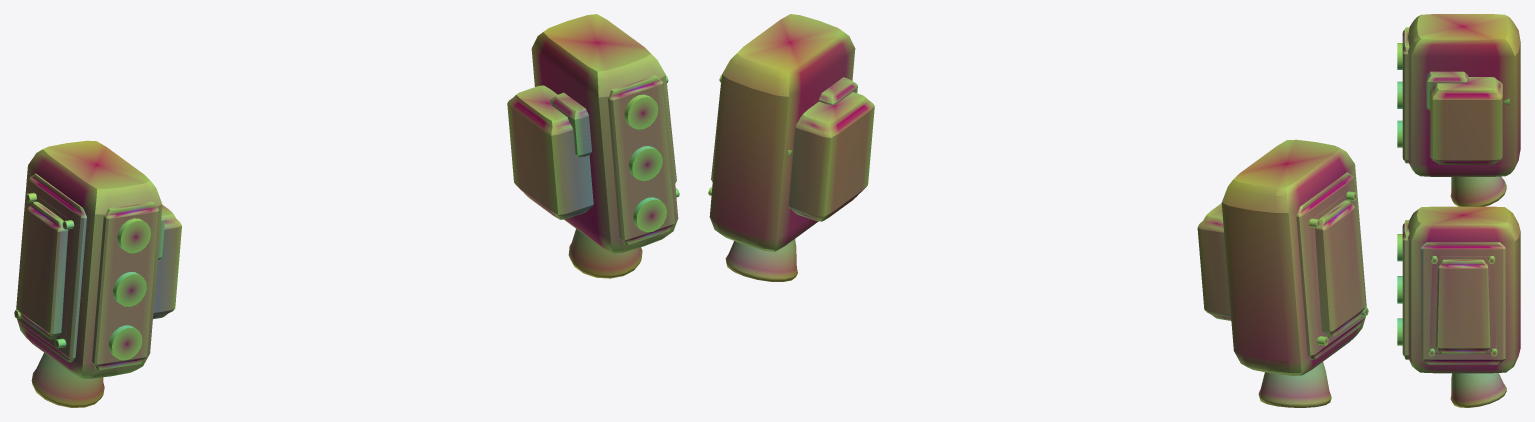
File: llm_gen_leg_thrusters_115_0658d0.glb
3 renders of one model, left to right at view 1: azimuth 30°, elevation 25°; view 2: azimuth 150°, elevation 25°; view 3: azimuth 270°, elevation 25°, orthographic. The views are drawn at different scales.
Visible parts, largest first — view 1: leg_missile_hull_0_crimson_gloss_r, leg_missile_hull_0_crimson_gloss_l, adapter_calf_clamp_r, leg_pod_armor_cover_6_era_block_l, adapter_sub_missile_bezel_dark_1_adapter_dark_l, adapter_sub_missile_bezel_dark_1_adapter_dark_r, adapter_sub_side_frame_dark_5_adapter_dark_l, leg_ankle_bell_7_vernier_bell_vernier_l, leg_ankle_bell_7_vernier_bell_vernier_r, adapter_calf_clamp_l, adapter_leg_knee_mount_dark_8_adapter_dark_r, leg_cell_top_2_adapter_dark_l (+5 smaller); view 2: leg_missile_hull_0_crimson_gloss_r, leg_missile_hull_0_crimson_gloss_l, adapter_calf_clamp_r, leg_pod_armor_cover_6_era_block_l, adapter_sub_side_frame_dark_5_adapter_dark_l, adapter_calf_clamp_l, leg_ankle_bell_7_vernier_bell_vernier_l, leg_ankle_bell_7_vernier_bell_vernier_r, adapter_leg_knee_mount_dark_8_adapter_dark_r; view 3: leg_missile_hull_0_crimson_gloss_l, leg_missile_hull_0_crimson_gloss_r, leg_pod_armor_cover_6_era_block_r, adapter_calf_clamp_l, adapter_sub_side_frame_dark_5_adapter_dark_r, leg_ankle_bell_7_vernier_bell_vernier_r, leg_ankle_bell_7_vernier_bell_vernier_l, adapter_sub_missile_bezel_dark_1_adapter_dark_r, adapter_sub_missile_bezel_dark_1_adapter_dark_l, adapter_leg_knee_mount_dark_8_adapter_dark_l, leg_cell_top_2_adapter_dark_r, leg_cell_mid_3_adapter_dark_r (+4 smaller).
Boxes of the visible parts, x1,y1,x2,y2 form: leg_missile_hull_0_crimson_gloss_r: (531, 14, 678, 253); leg_missile_hull_0_crimson_gloss_l: (16, 140, 162, 378); adapter_calf_clamp_r: (507, 85, 593, 219); leg_pod_armor_cover_6_era_block_l: (14, 192, 74, 348); adapter_sub_missile_bezel_dark_1_adapter_dark_l: (92, 201, 159, 369); adapter_sub_missile_bezel_dark_1_adapter_dark_r: (607, 75, 675, 244); adapter_sub_side_frame_dark_5_adapter_dark_l: (17, 173, 86, 362); leg_ankle_bell_7_vernier_bell_vernier_l: (31, 352, 104, 407); leg_ankle_bell_7_vernier_bell_vernier_r: (568, 229, 642, 278); adapter_calf_clamp_l: (153, 205, 181, 318); adapter_leg_knee_mount_dark_8_adapter_dark_r: (549, 92, 591, 157); leg_cell_top_2_adapter_dark_l: (117, 218, 151, 253); leg_missile_hull_0_crimson_gloss_r: (709, 14, 855, 251); leg_missile_hull_0_crimson_gloss_l: (1221, 139, 1366, 375); adapter_calf_clamp_r: (788, 92, 874, 221); leg_pod_armor_cover_6_era_block_l: (1309, 191, 1368, 345); adapter_sub_side_frame_dark_5_adapter_dark_l: (1296, 172, 1365, 359); adapter_calf_clamp_l: (1197, 203, 1231, 320); leg_ankle_bell_7_vernier_bell_vernier_l: (1258, 362, 1331, 407); leg_ankle_bell_7_vernier_bell_vernier_r: (725, 239, 797, 281); adapter_leg_knee_mount_dark_8_adapter_dark_r: (818, 77, 857, 105); leg_missile_hull_0_crimson_gloss_l: (1408, 14, 1520, 176); leg_missile_hull_0_crimson_gloss_r: (1408, 206, 1520, 373); leg_pod_armor_cover_6_era_block_r: (1428, 256, 1497, 356); adapter_calf_clamp_l: (1430, 77, 1502, 164); adapter_sub_side_frame_dark_5_adapter_dark_r: (1420, 242, 1505, 364); leg_ankle_bell_7_vernier_bell_vernier_r: (1450, 373, 1506, 407); leg_ankle_bell_7_vernier_bell_vernier_l: (1450, 176, 1506, 206); adapter_sub_missile_bezel_dark_1_adapter_dark_r: (1402, 220, 1409, 359); adapter_sub_missile_bezel_dark_1_adapter_dark_l: (1402, 27, 1409, 163); adapter_leg_knee_mount_dark_8_adapter_dark_l: (1426, 71, 1468, 110); leg_cell_top_2_adapter_dark_r: (1397, 234, 1402, 261); leg_cell_mid_3_adapter_dark_r: (1397, 276, 1402, 303).
Bounding box in the file's own units: 84.69 × 30.45 × 18.63.
